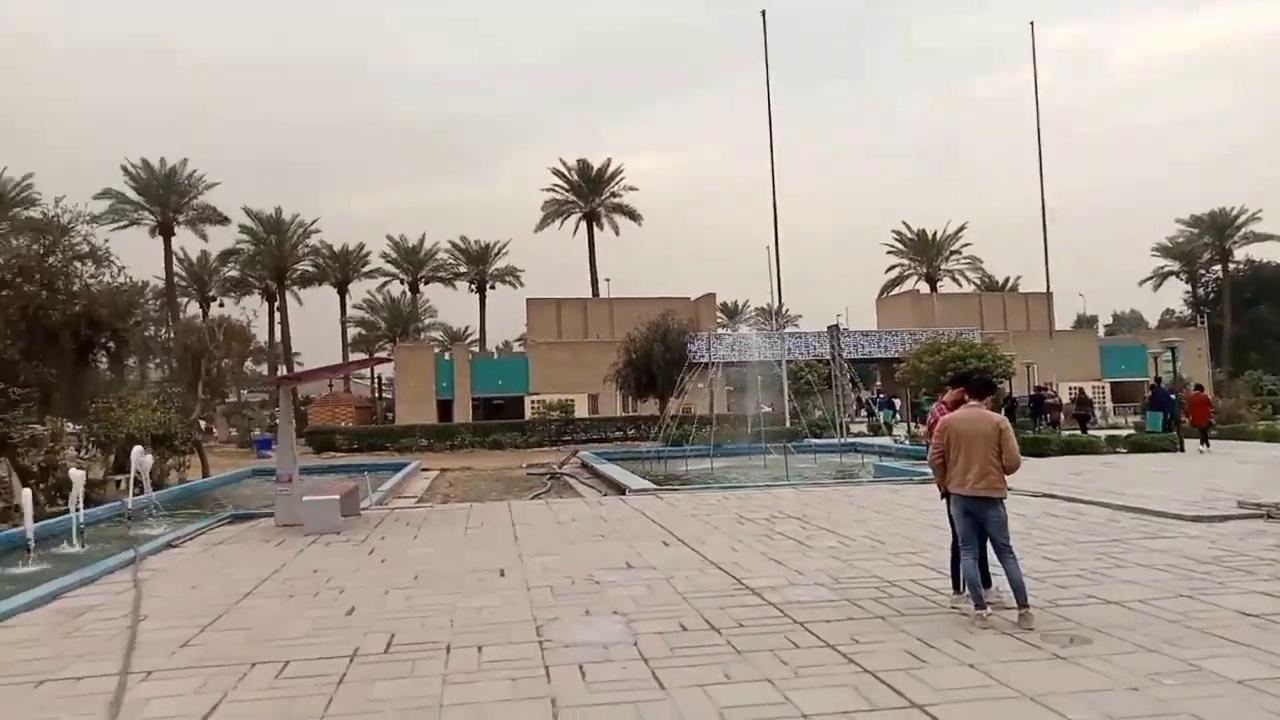car: (1002, 391, 1063, 426)
fountain: (573, 5, 934, 495), (0, 354, 422, 620), (574, 323, 934, 495), (574, 436, 933, 495)
person: (927, 375, 1037, 630), (1184, 382, 1215, 453), (1147, 375, 1173, 432), (1072, 386, 1093, 434)
tree: (0, 191, 146, 426), (90, 154, 230, 379), (215, 204, 323, 436), (1173, 203, 1278, 393), (533, 155, 643, 297), (163, 244, 238, 431), (1137, 232, 1221, 395), (81, 382, 204, 489), (300, 238, 378, 392), (170, 311, 256, 441), (432, 234, 525, 352), (602, 307, 699, 415), (371, 230, 450, 341), (877, 217, 983, 298), (892, 331, 1016, 398), (745, 301, 802, 426), (344, 286, 437, 355), (167, 244, 232, 322), (0, 164, 42, 251), (430, 322, 477, 357), (748, 301, 801, 332), (1103, 307, 1149, 335), (715, 298, 753, 331), (972, 269, 1021, 292), (494, 333, 525, 356)
